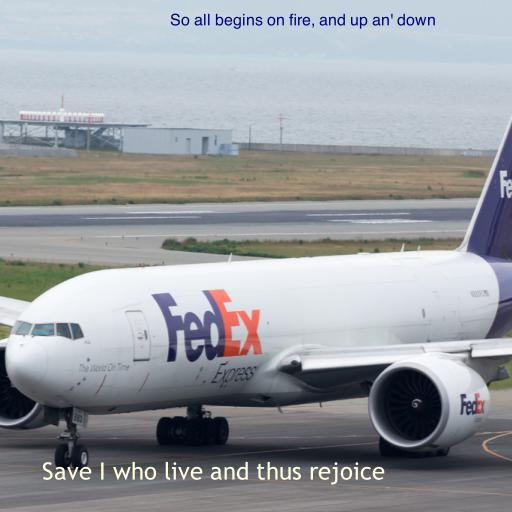Big Caslon: (170, 13, 436, 29)
Trebuchet MS: (41, 461, 385, 485)
